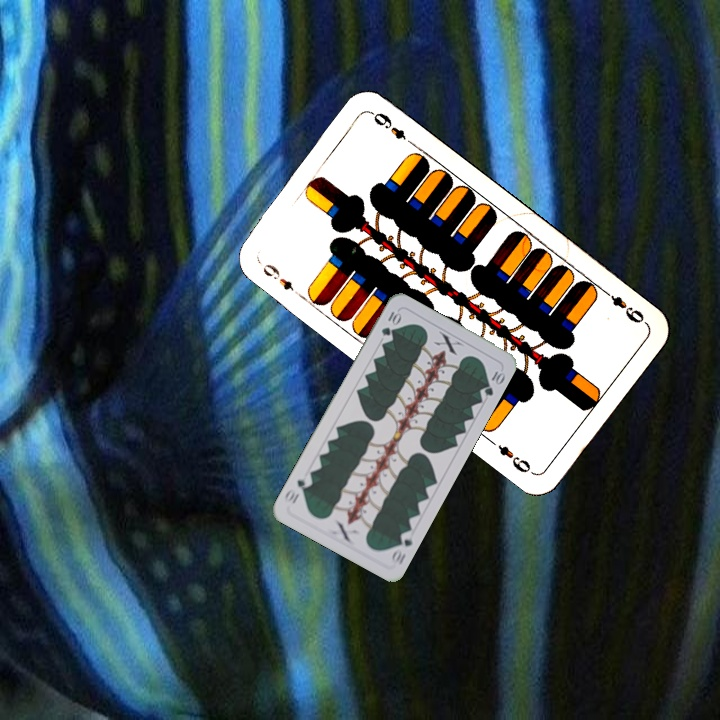E9: (599, 285, 649, 327), (258, 259, 304, 300)
G10: (387, 527, 416, 569), (377, 307, 403, 338)
